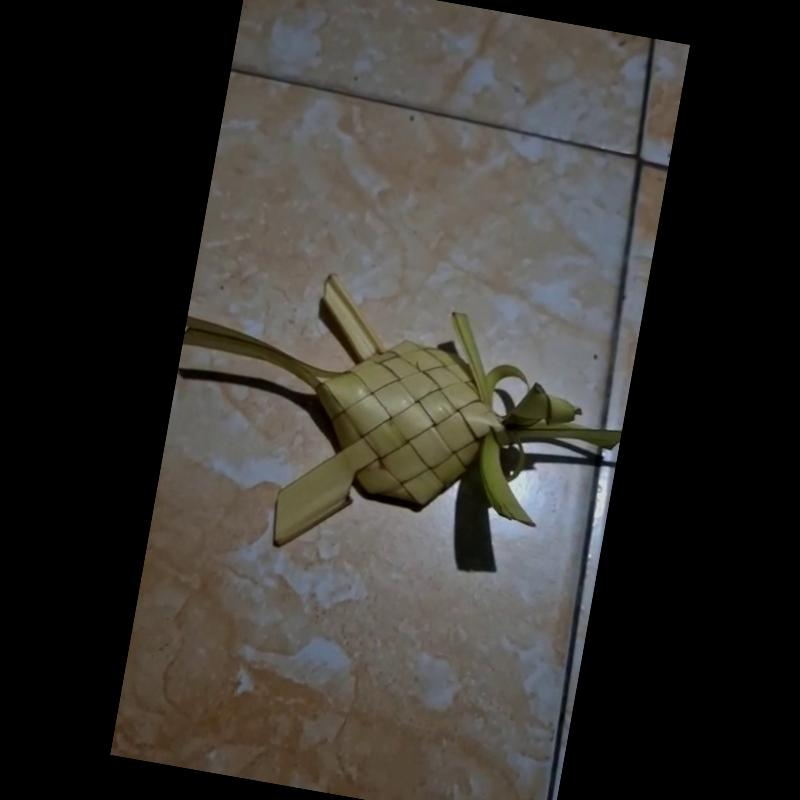Tipat Dampulan: (179, 264, 615, 568)
